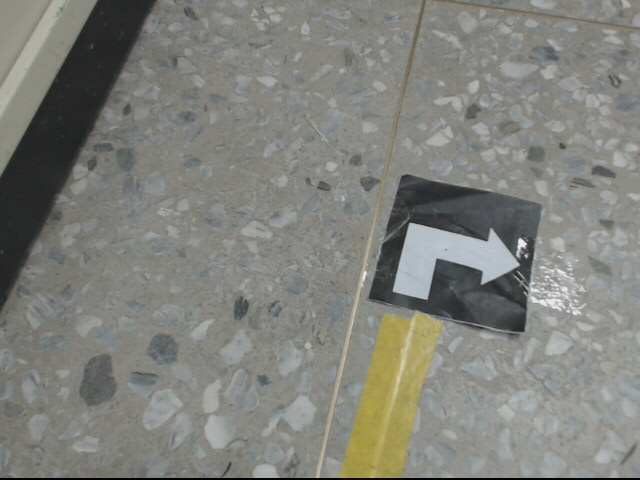right: (368, 170, 541, 337)
